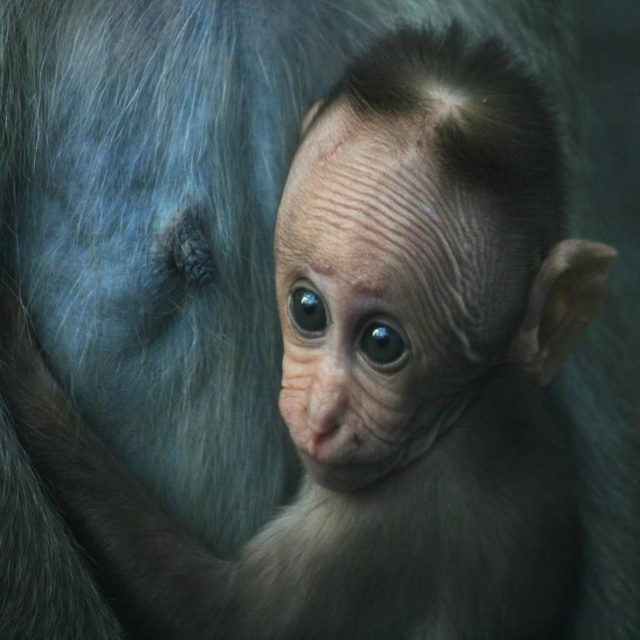Monkey: (0, 20, 618, 639)
